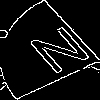N: (25, 25, 100, 84)
